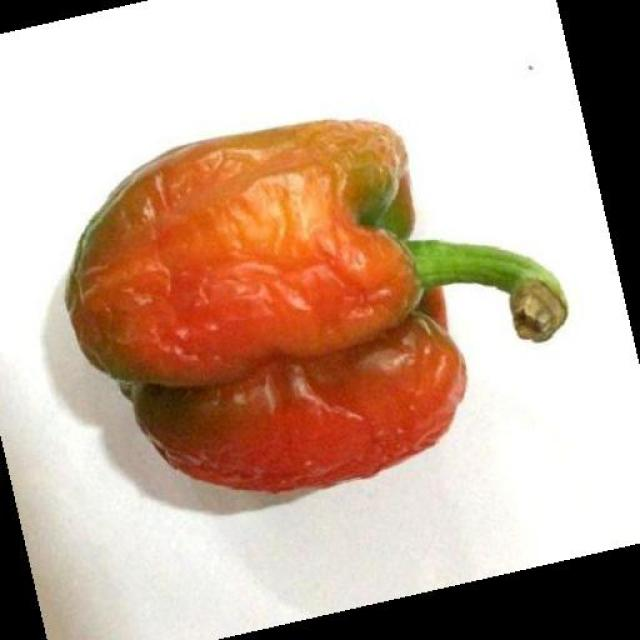Stale_Capsicum: (79, 62, 516, 470)
